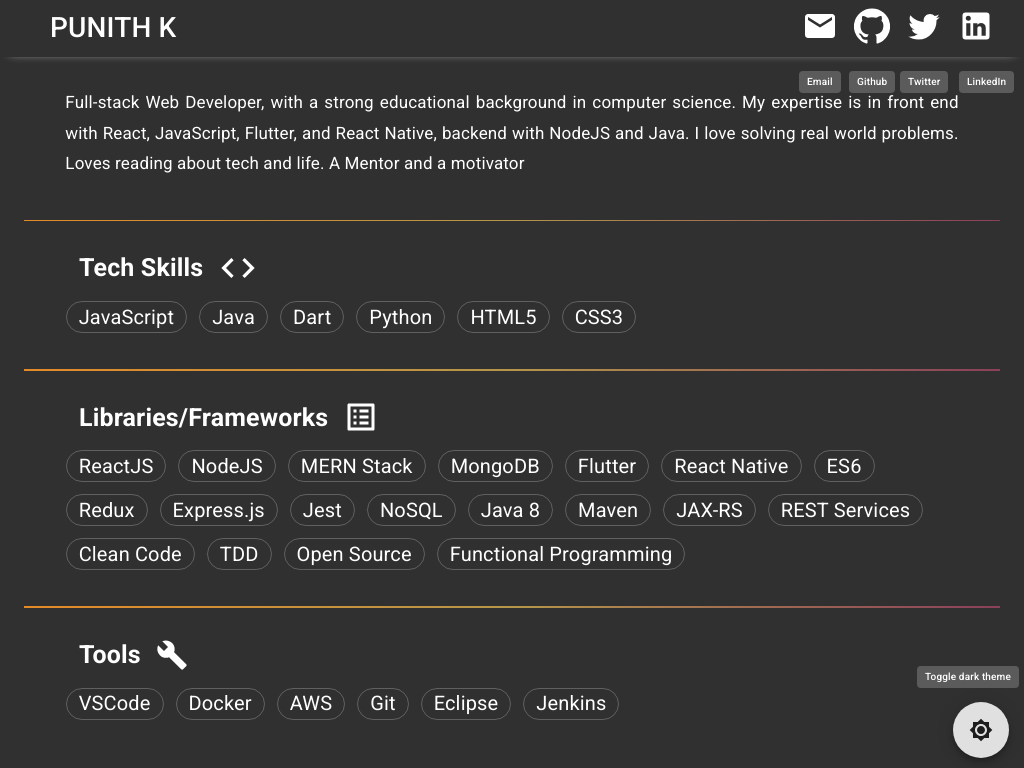
dev-portfolio › ui-mode switcher › should change to light mode on click
The width and height of the screenshot is (1024, 768).
Step 1. Click the button with class "light-mode" → (981, 730), box [953, 702, 1009, 758]
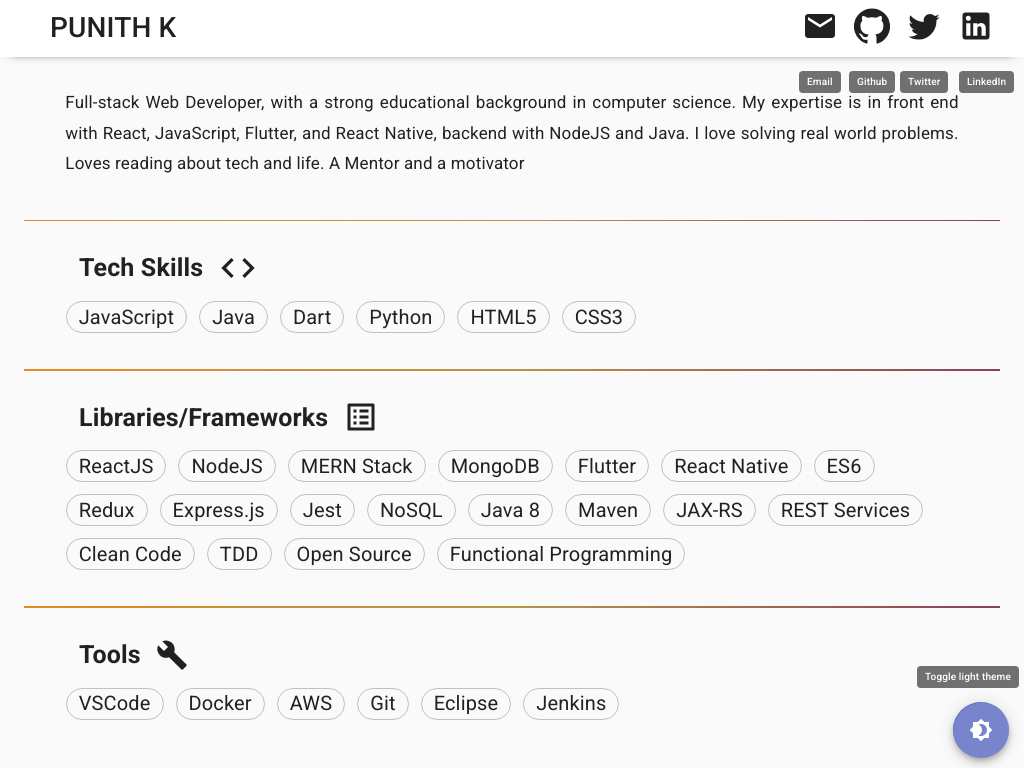
Check: the button with class "black-mode" is shown, box [953, 702, 1009, 758]
